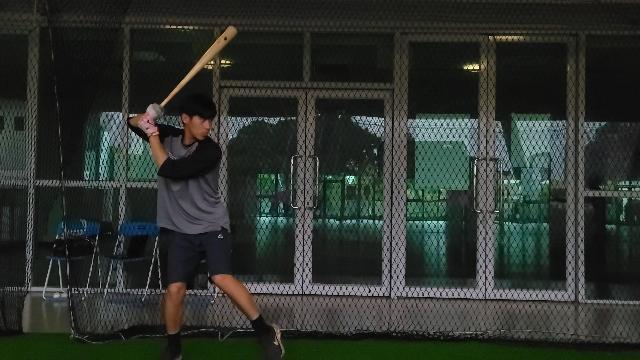bat: (160, 24, 240, 108)
